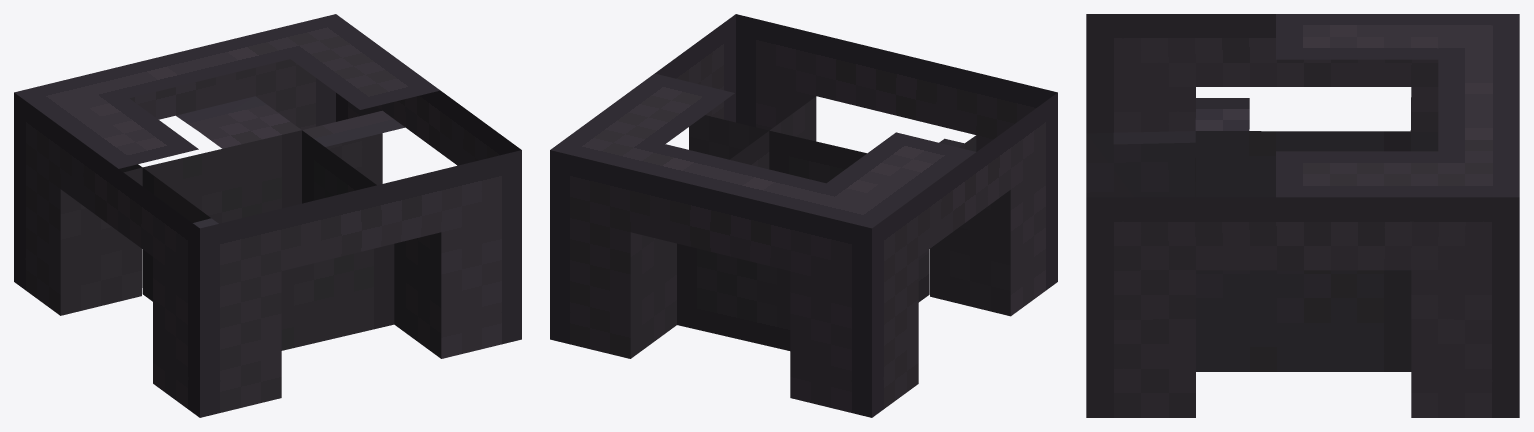
File: charging.obj
The picture shows the model from 3 angles, left to right: view 1: azimuth 30°, elevation 25°; view 2: azimuth 150°, elevation 25°; view 3: azimuth 270°, elevation 25°; orthographic projection. The views are drawn at different scales.
Parts seen in each view (by area): view 1: Cube_Cube.001; view 2: Cube_Cube.001; view 3: Cube_Cube.001.
Boxes of the visible parts, x1=… form: Cube_Cube.001: x1=14, y1=14, x2=521, y2=417; Cube_Cube.001: x1=550, y1=14, x2=1057, y2=417; Cube_Cube.001: x1=1086, y1=14, x2=1519, y2=417.
Size of the model in its own units: 1 by 0.5628 by 1.
